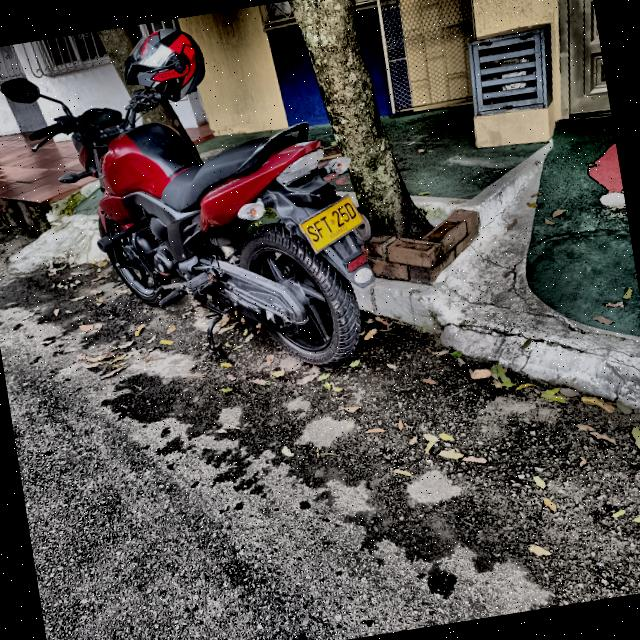2: (329, 208, 346, 229)
5: (337, 204, 352, 225)
D: (343, 201, 358, 221)
F: (312, 220, 328, 240)
S: (305, 223, 322, 245)
T: (319, 215, 335, 236)
